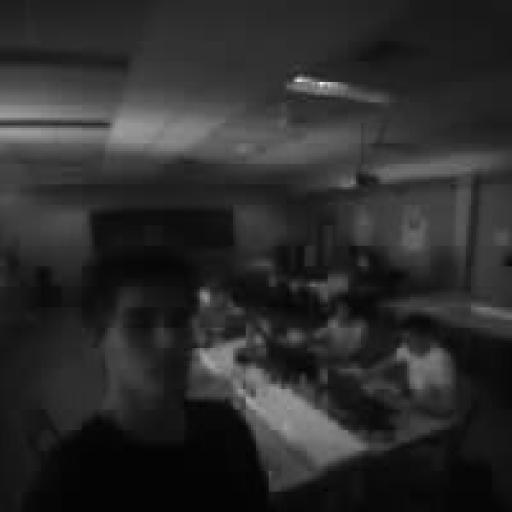human: (24, 249, 268, 511), (364, 315, 458, 414), (313, 295, 368, 363), (195, 280, 243, 345)
